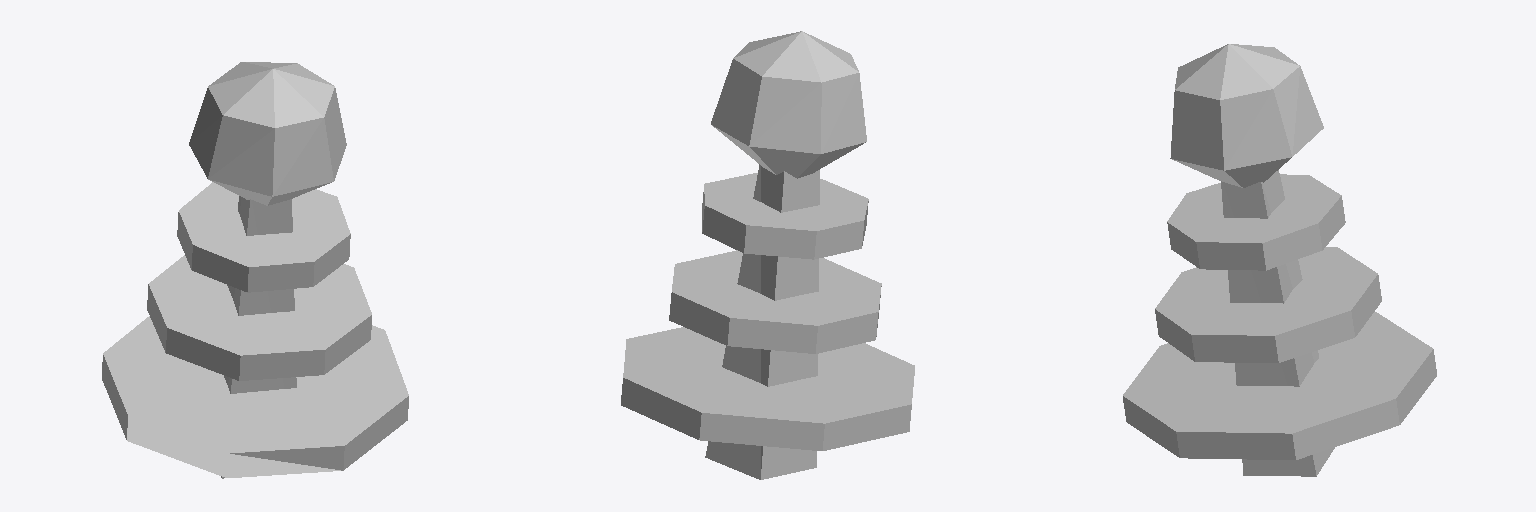
Rendered from Coils.obj.
The picture shows the model from 3 angles: view 1: azimuth 30°, elevation 25°; view 2: azimuth 150°, elevation 25°; view 3: azimuth 270°, elevation 25°; orthographic projection.
Visible parts, largest first — view 1: HeadAssaultron:0; view 2: HeadAssaultron:0; view 3: HeadAssaultron:0.
Part boxes in pixels (x1,y1,x2,y2): HeadAssaultron:0: (102, 62, 408, 478); HeadAssaultron:0: (621, 31, 914, 479); HeadAssaultron:0: (1123, 44, 1436, 476).
Size of the model in its own units: 3.58 by 5.24 by 3.59.